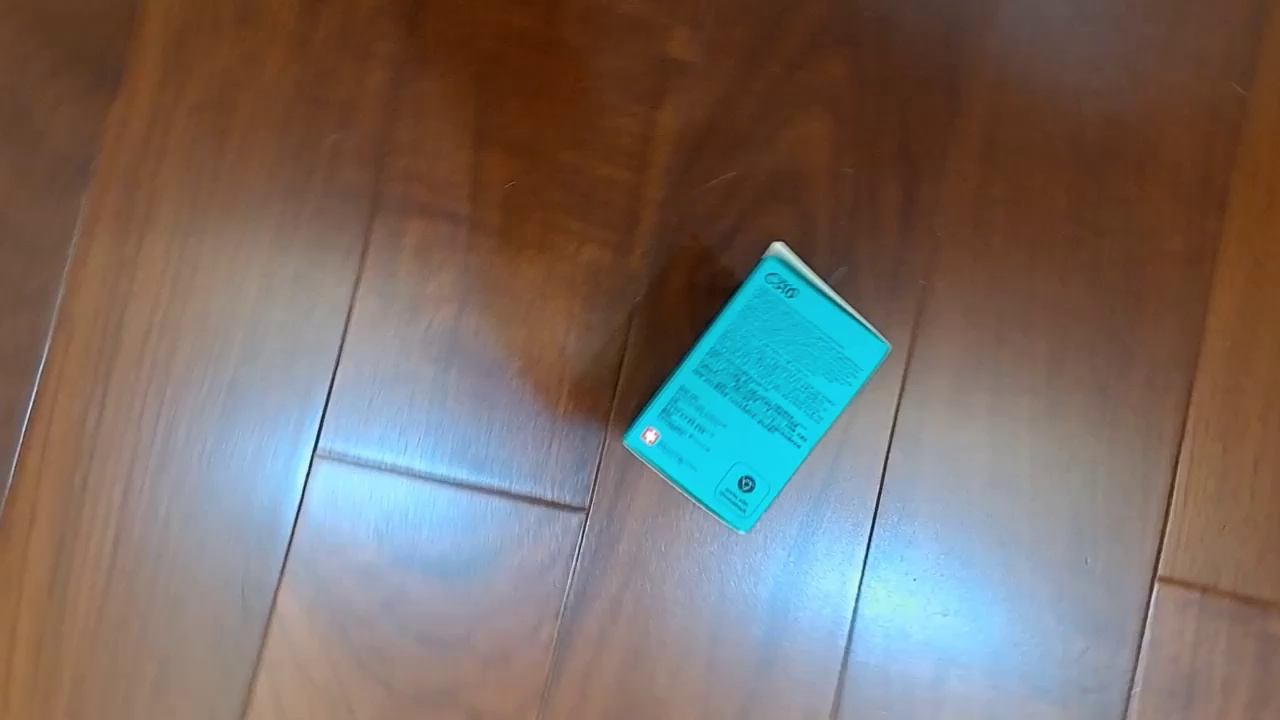webcam: (618, 239, 894, 537)
